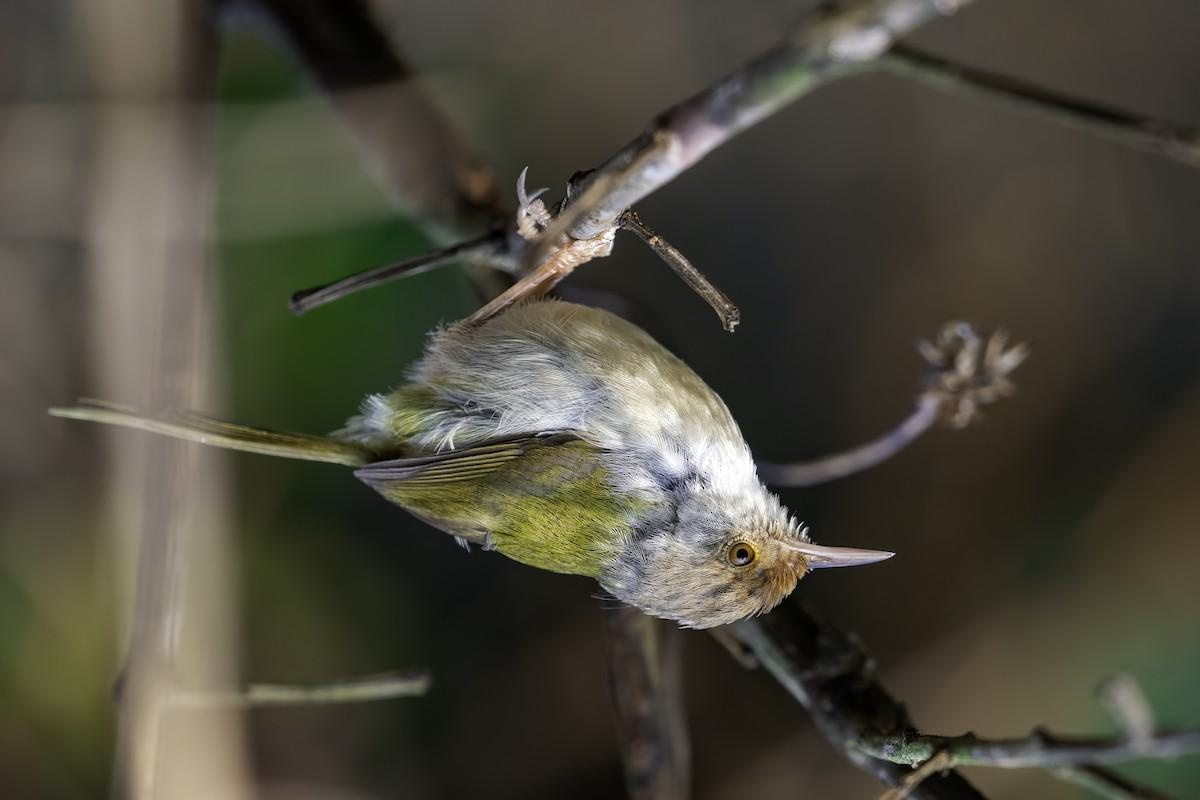tailorbird: (60, 251, 918, 636)
